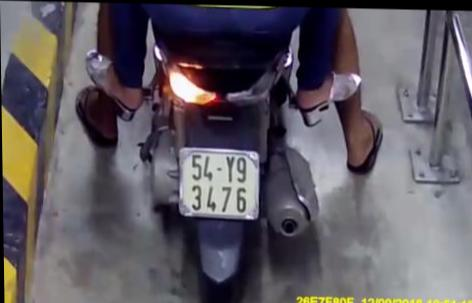LP: (175, 144, 268, 223)
